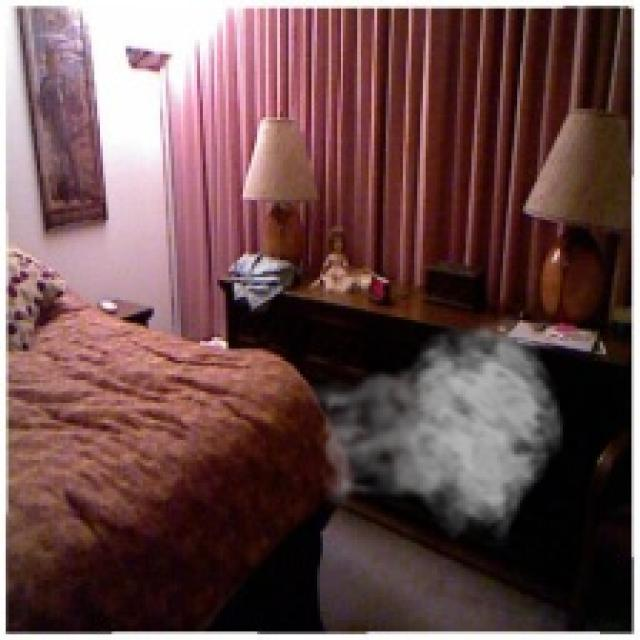smoke: (303, 314, 566, 546)
